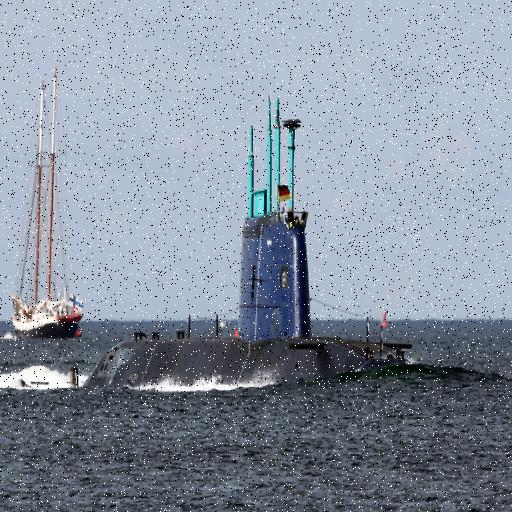submarine: (71, 95, 431, 391)
